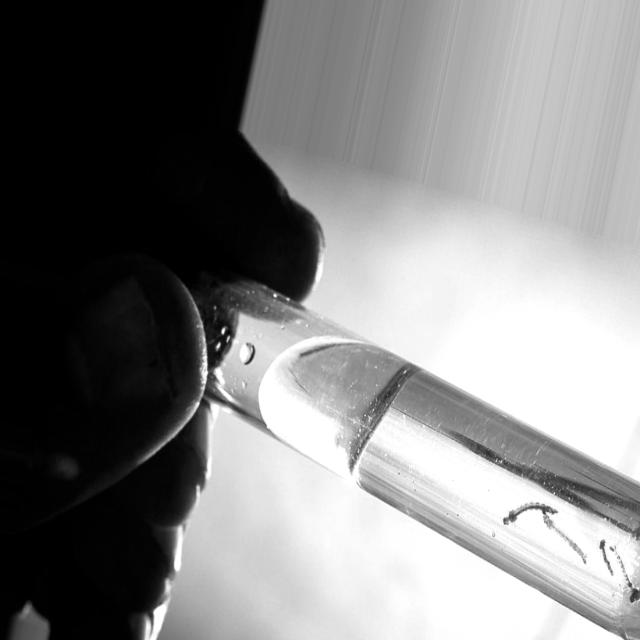larvas: (542, 518, 582, 565), (614, 538, 640, 606), (504, 500, 556, 522), (597, 540, 613, 581)
